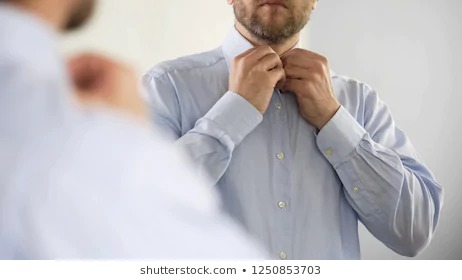F_shirt: (120, 28, 443, 258)
